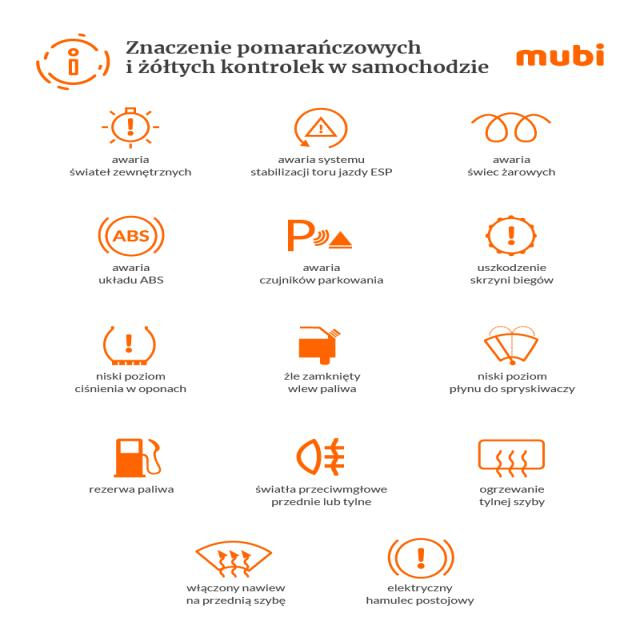kontrolka: (373, 522, 469, 588), (465, 431, 575, 481), (86, 317, 186, 370), (183, 531, 288, 581), (274, 207, 364, 259), (282, 98, 360, 156), (88, 207, 173, 258), (459, 100, 553, 146), (472, 210, 558, 259), (467, 317, 547, 366), (102, 429, 168, 482), (94, 106, 166, 152), (284, 318, 352, 365), (295, 430, 349, 483), (351, 365, 352, 370)
